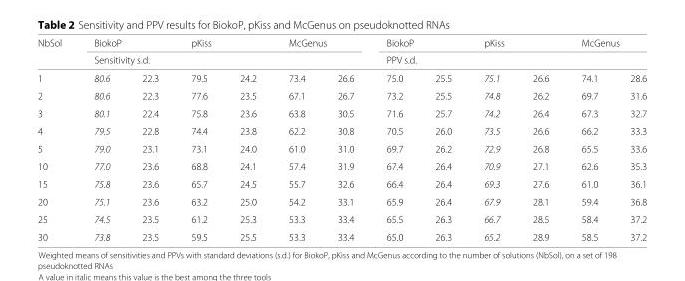table: (36, 36, 646, 242)
table column: (125, 36, 174, 242), (174, 36, 223, 242), (271, 36, 320, 242), (320, 36, 369, 242), (369, 36, 418, 242), (418, 36, 467, 242), (515, 36, 564, 242), (564, 36, 613, 242), (77, 36, 125, 242), (223, 36, 271, 242), (467, 36, 515, 242), (36, 36, 77, 242), (613, 36, 646, 242)
table column header: (36, 36, 646, 86)
table row: (36, 50, 646, 68), (36, 68, 646, 86), (36, 86, 646, 104), (36, 121, 646, 139), (36, 139, 646, 157), (36, 174, 646, 192), (36, 192, 646, 210), (36, 104, 646, 121), (36, 157, 646, 174), (36, 210, 646, 227), (36, 227, 646, 242), (36, 36, 646, 50)
table spanning cell: (271, 50, 646, 68), (36, 50, 271, 68), (271, 36, 369, 50), (369, 36, 467, 50), (77, 36, 174, 50), (174, 36, 271, 50), (467, 36, 564, 50), (564, 36, 646, 50)
